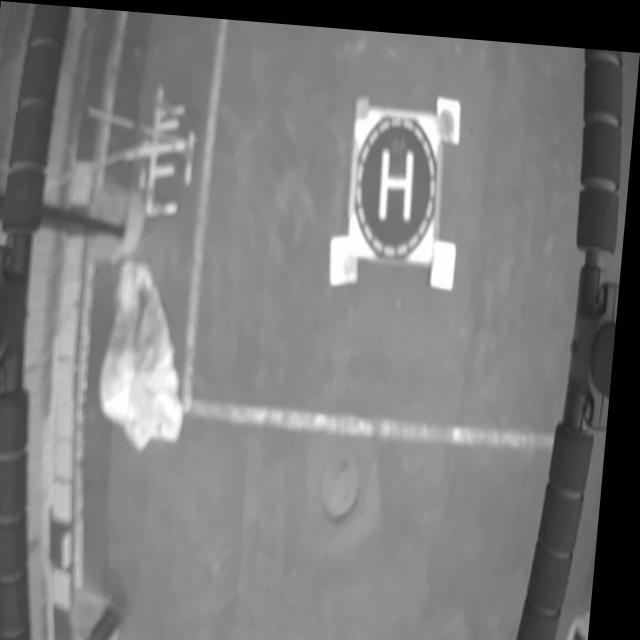Helipad: (380, 140, 417, 218)
